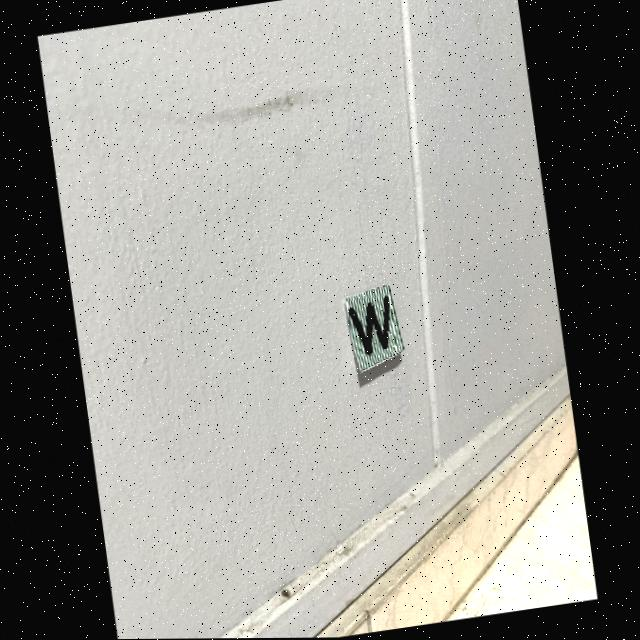W: (350, 297, 391, 356)
